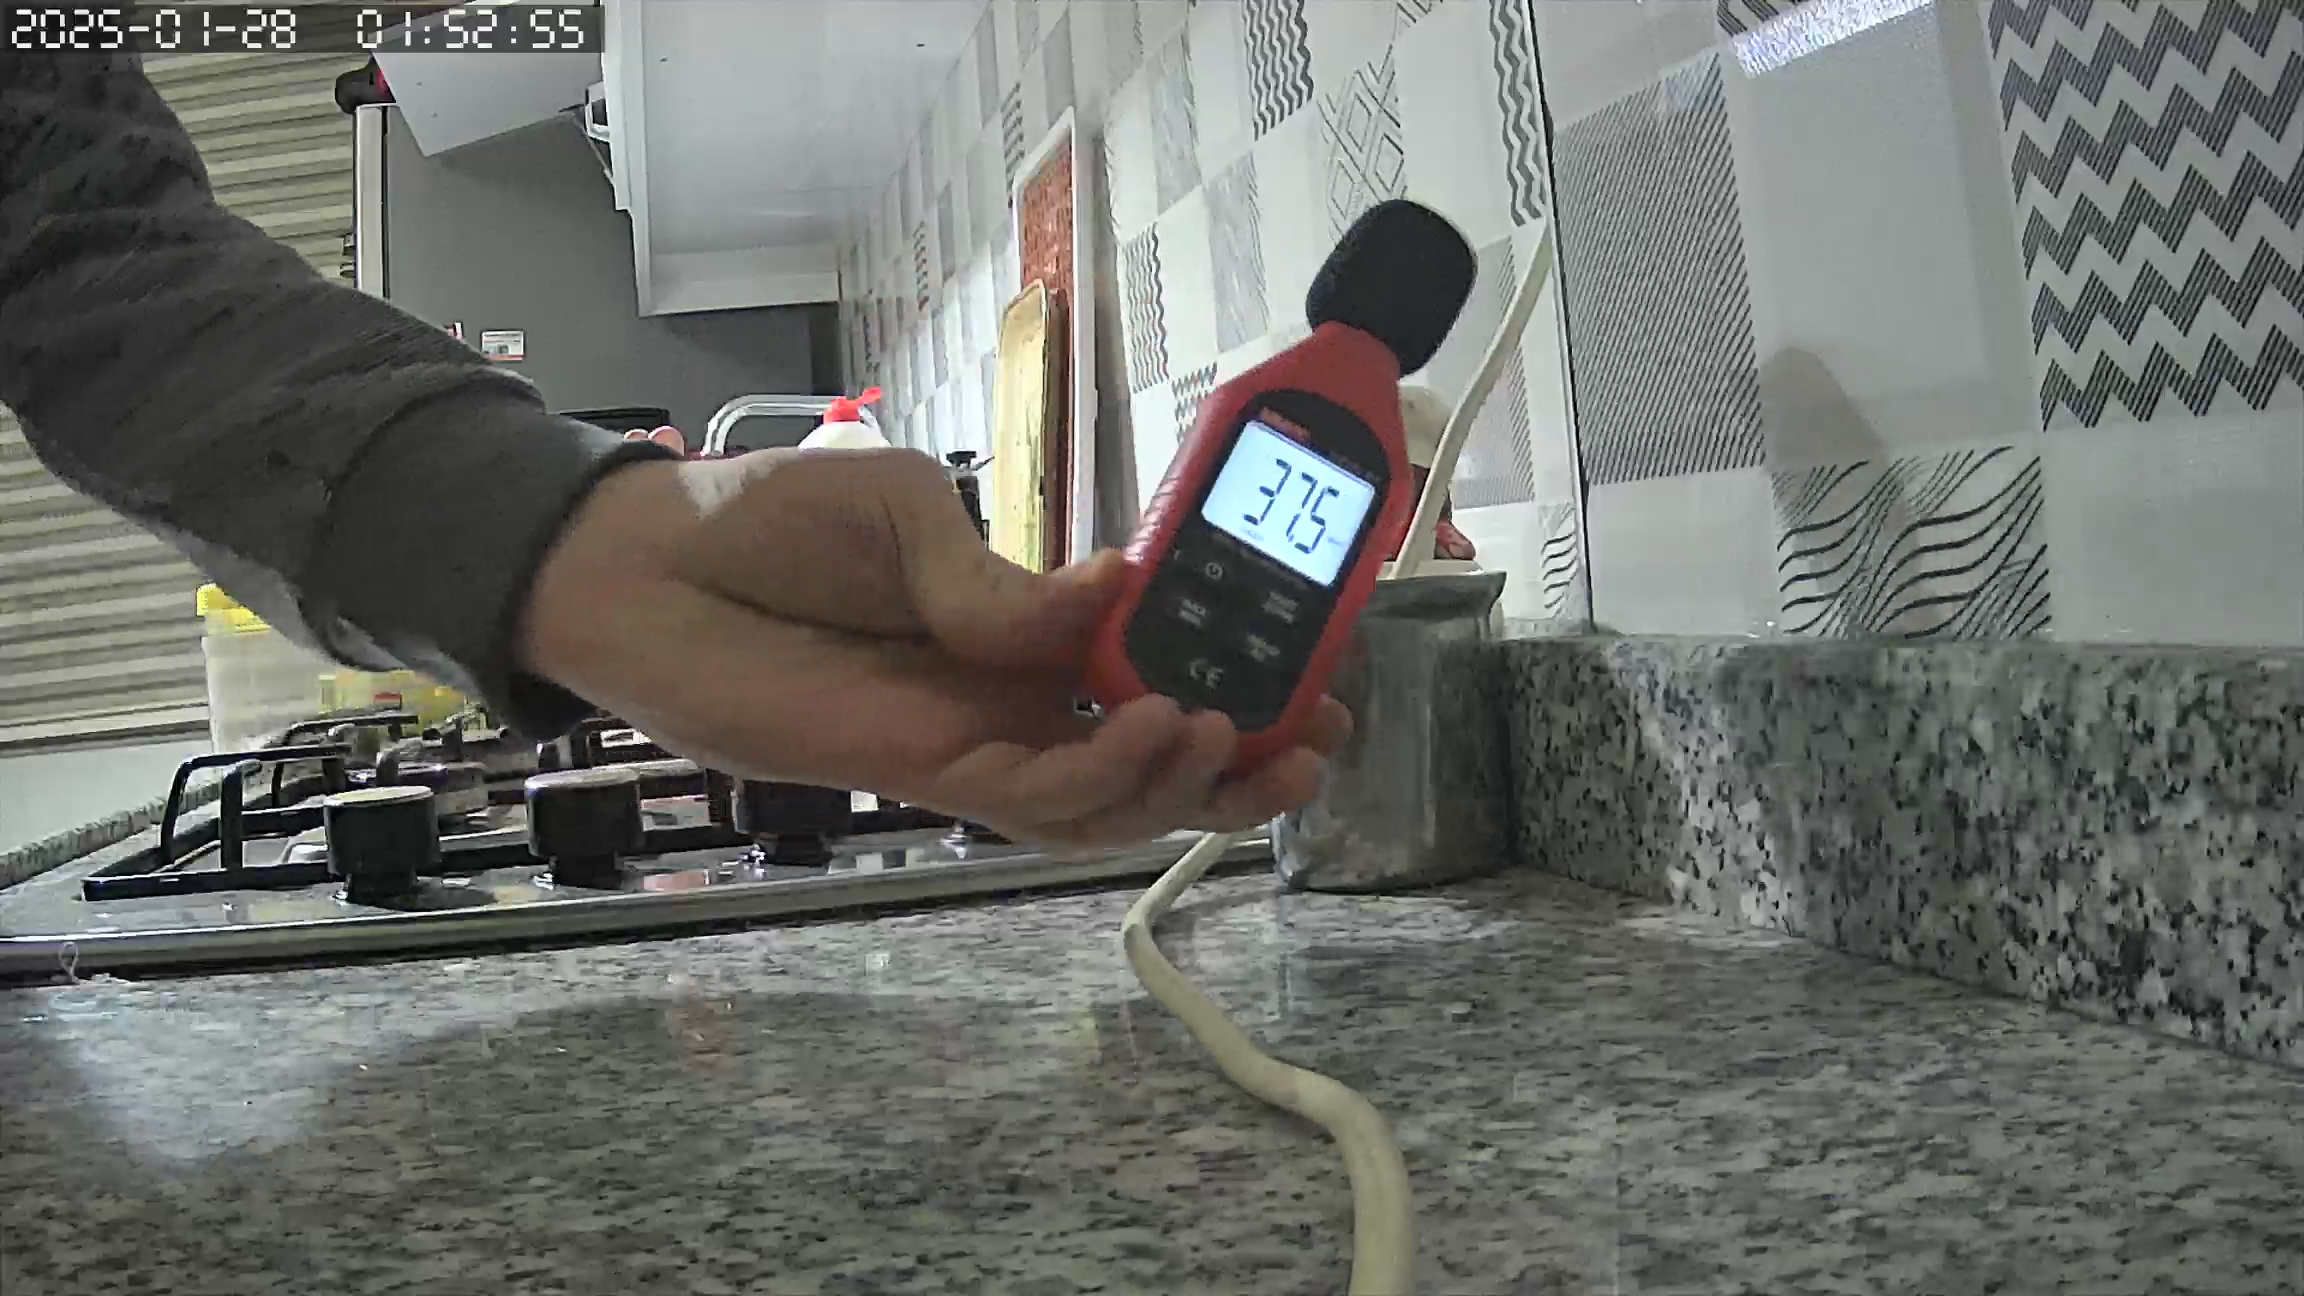screen: (1198, 419, 1375, 590)
